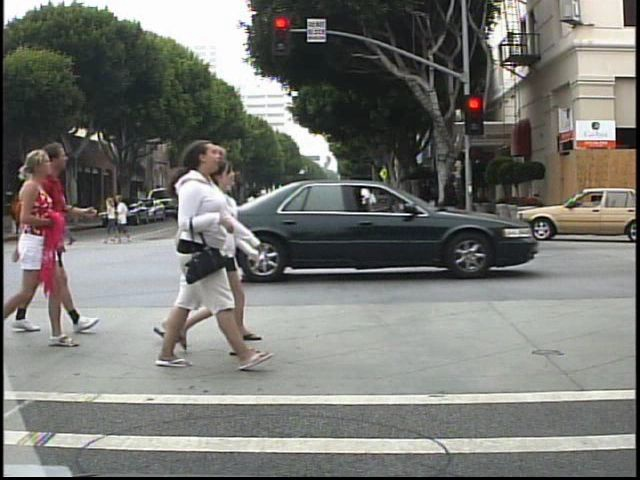person: (156, 137, 249, 380), (196, 148, 274, 352), (197, 159, 267, 368), (14, 149, 75, 352), (33, 138, 77, 336), (354, 177, 381, 241), (184, 185, 207, 248), (46, 192, 72, 247), (242, 183, 264, 241), (55, 186, 70, 244), (351, 187, 367, 223)
